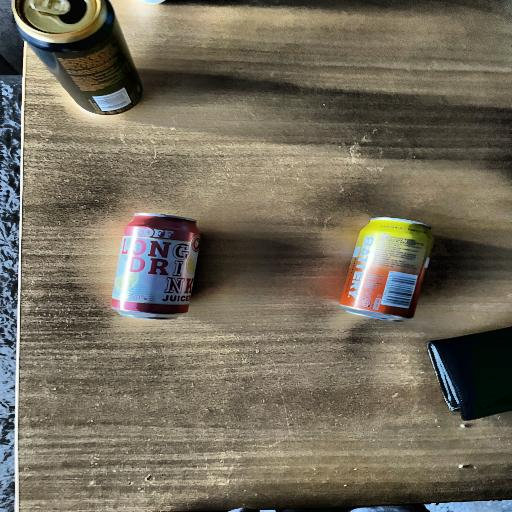koff: (107, 203, 212, 320)
